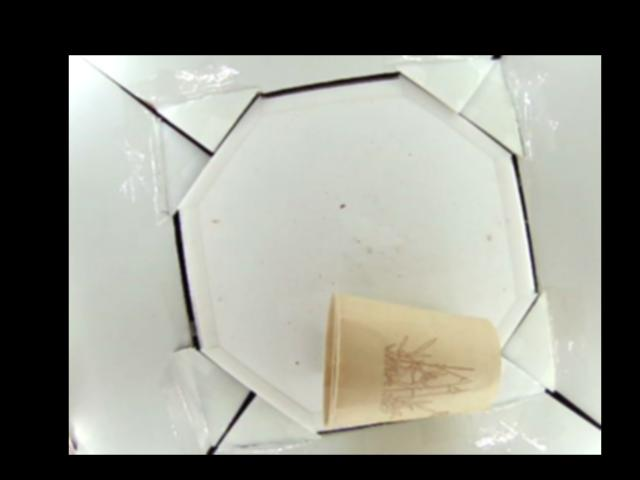Cup: (321, 294, 501, 427)
